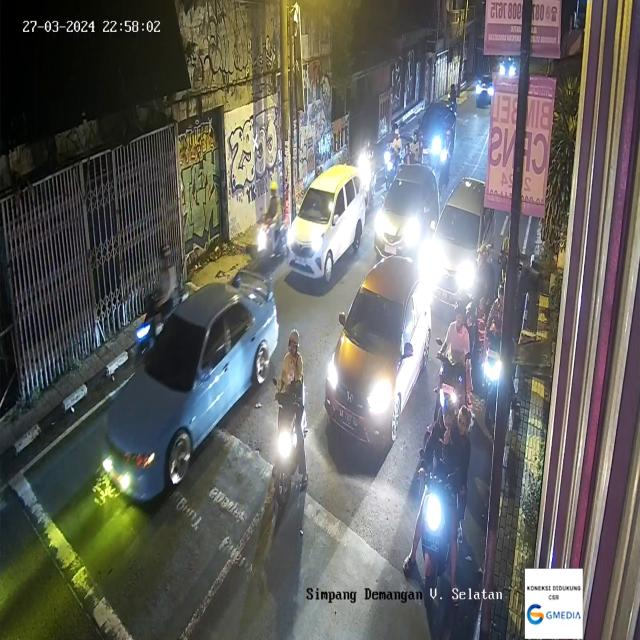car: (98, 278, 286, 500), (324, 252, 433, 448), (429, 173, 498, 305), (289, 159, 365, 277), (367, 165, 440, 258), (417, 98, 455, 155), (472, 73, 502, 112)
motorcycle: (417, 407, 468, 628), (274, 326, 310, 504), (134, 240, 186, 350), (439, 298, 476, 422), (486, 289, 515, 410), (258, 176, 288, 276)
